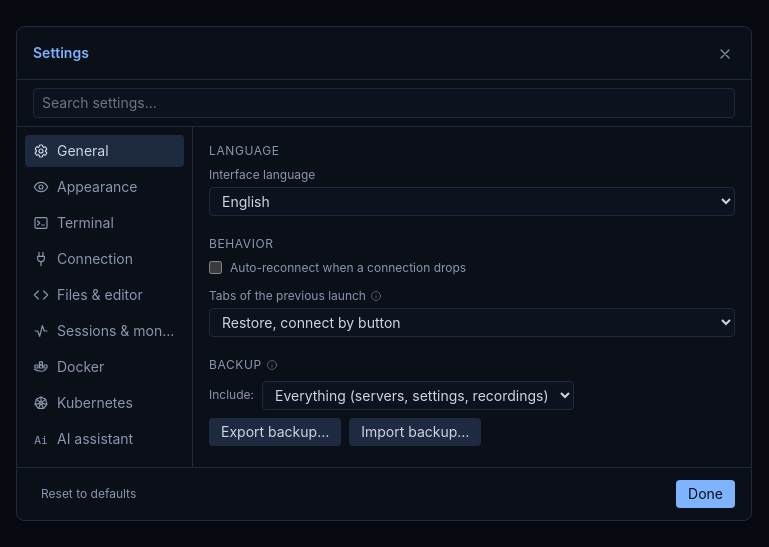
Test: SettingsPanel — backup › exports to the chosen path with the selected kind and current settings
Click the button with test id "backup-export" at (275, 432), box [209,418,341,446]
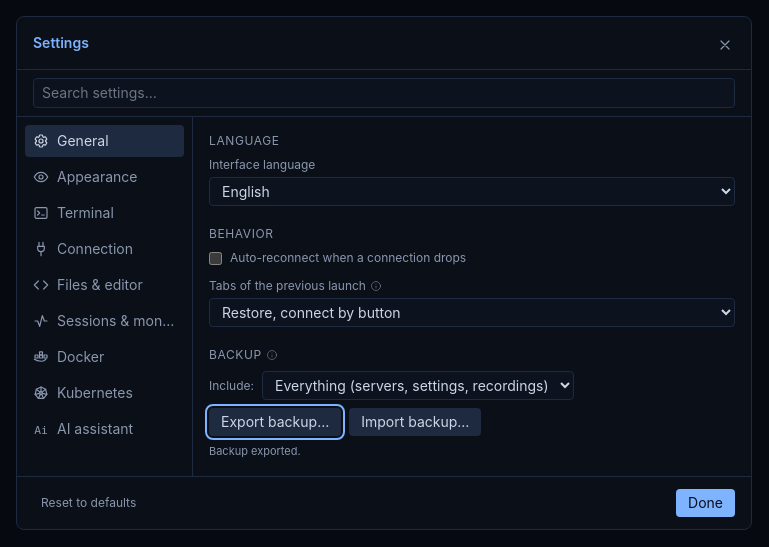
Expected: the text with test id "backup-msg" shows "exported", [209,444,301,458]
